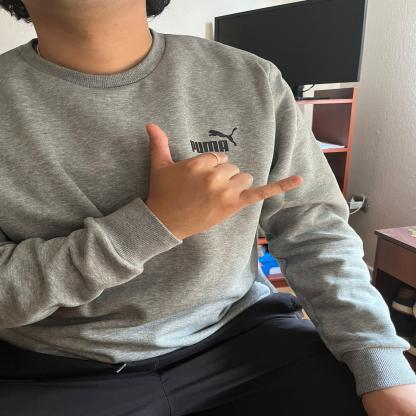Y: (136, 118, 306, 232)
